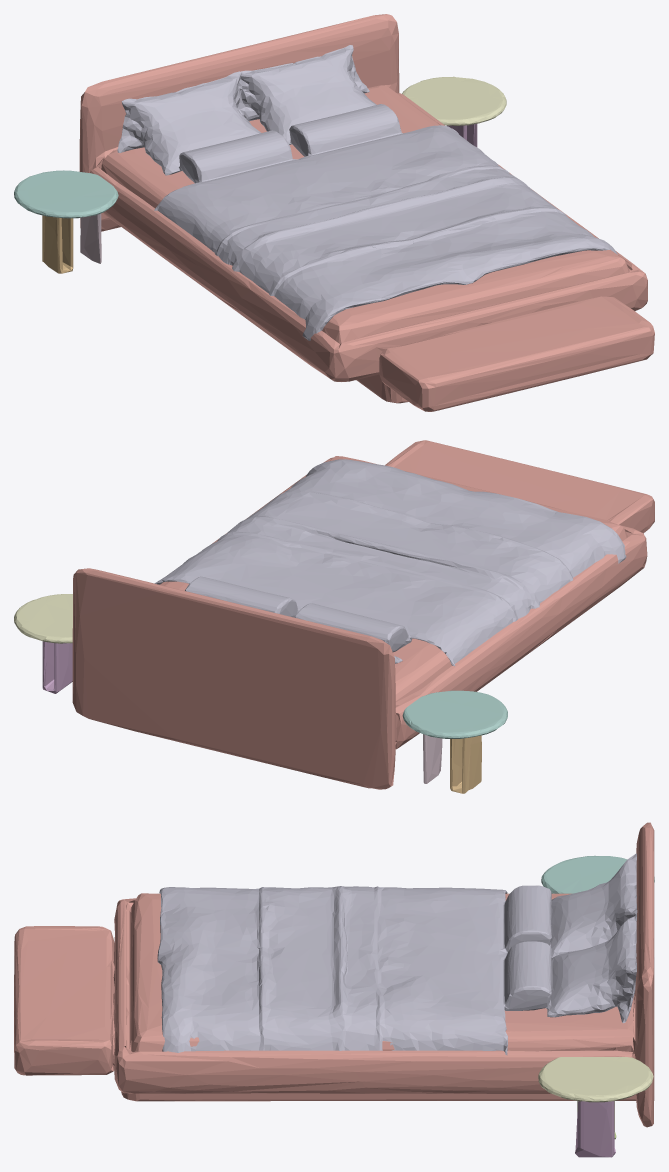
The model's file is bed-furnimesh-ln4s4f.glb.
3 renders of one model, top to bottom at view 1: azimuth 30°, elevation 25°; view 2: azimuth 150°, elevation 25°; view 3: azimuth 270°, elevation 25°, orthographic. The views are drawn at different scales.
Parts seen in each view (by area): view 1: world; view 2: world; view 3: world.
Part boxes in pixels (x1=…): world: x1=14, y1=14, x2=654, y2=411; world: x1=14, y1=440, x2=654, y2=793; world: x1=14, y1=822, x2=654, y2=1157.
Size of the model in its own units: 1.72 by 0.5143 by 1.91.
